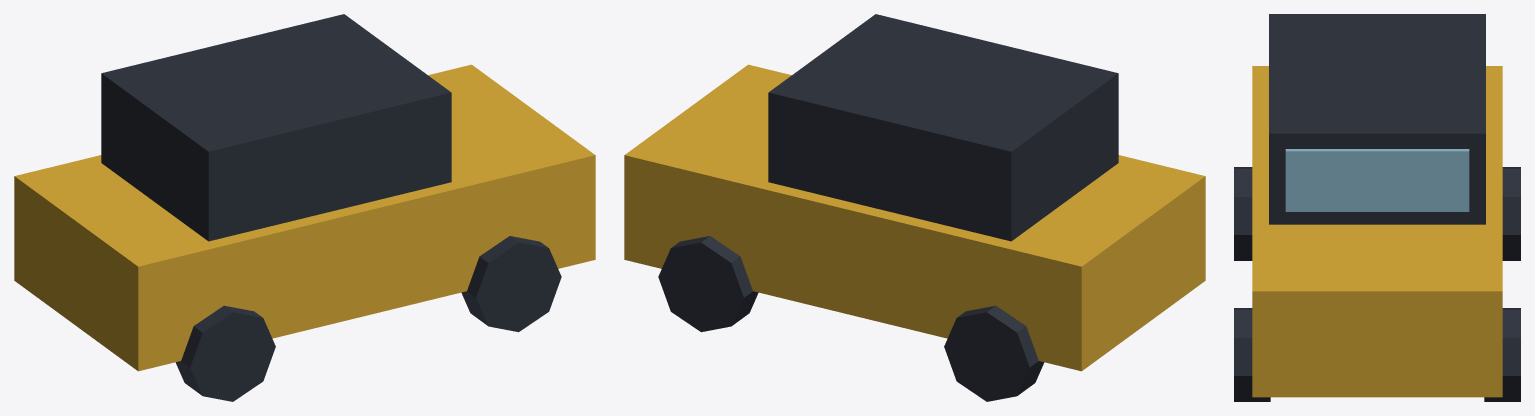
File: car_b.glb
The picture shows the model from 3 angles, left to right: view 1: azimuth 30°, elevation 25°; view 2: azimuth 150°, elevation 25°; view 3: azimuth 270°, elevation 25°; orthographic projection.
Visible parts, largest first — view 1: car_b; view 2: car_b; view 3: car_b.
Part boxes in pixels (x1,y1,x2,y2): car_b: (14, 14, 595, 401); car_b: (624, 14, 1205, 401); car_b: (1234, 14, 1520, 401).
Size of the model in its own units: 3.2 by 1.6 by 1.72.
